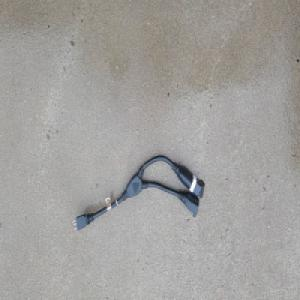Wire: (69, 153, 205, 233)
